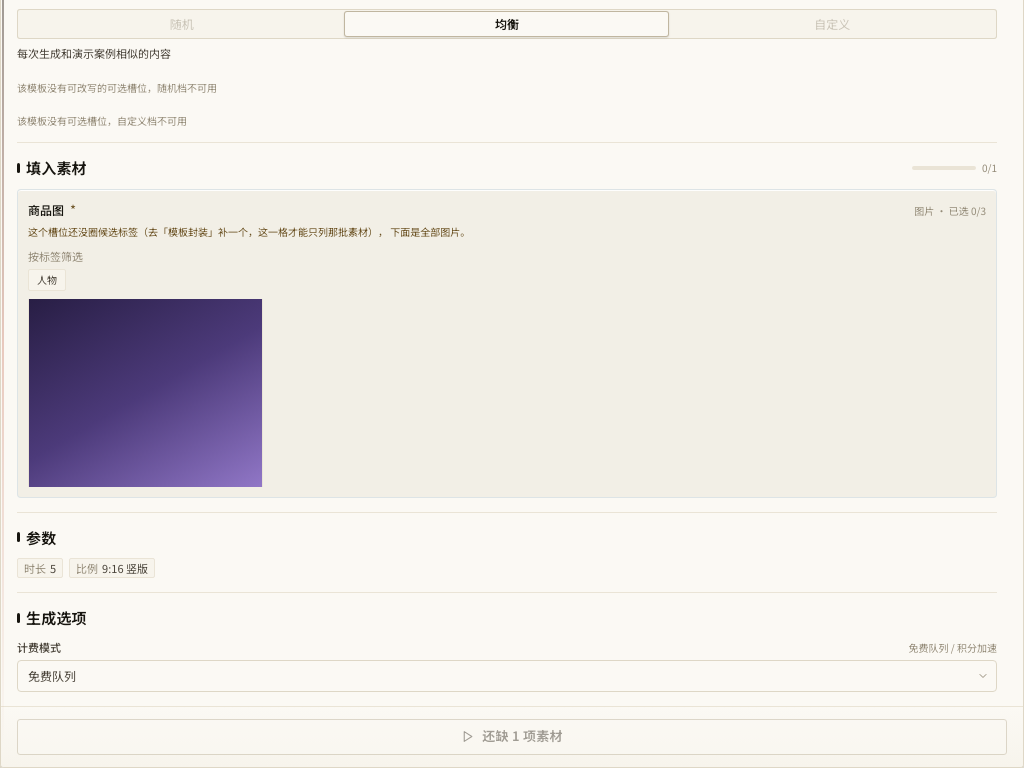
Scenario: 模板库：生成前的二次确认 › 选了积分加速就提醒会消耗积分
The width and height of the screenshot is (1024, 768).
(page scrolled)
Click the button titled "商品图.png" at (145, 393), box [28,276,262,510]
(page scrolled)
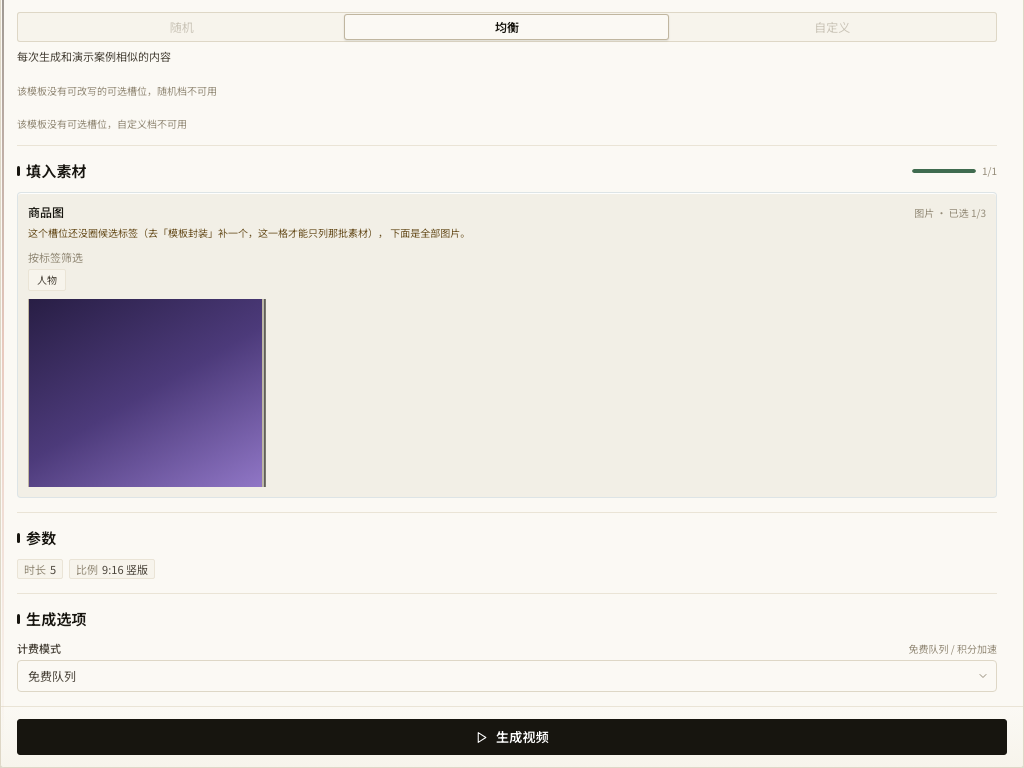
Select "积分加速" in the dropdown labelled "计费模式" at (507, 676), box [17,660,997,692]
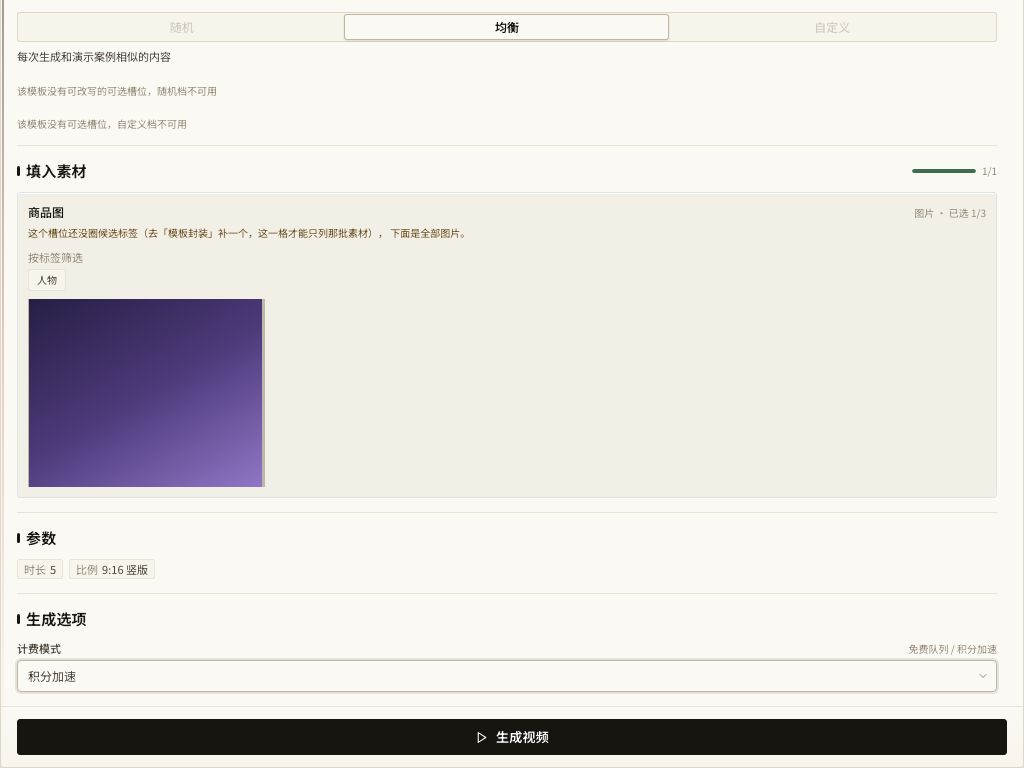
Click the button "生成视频" at (512, 737), box [17,719,1007,755]
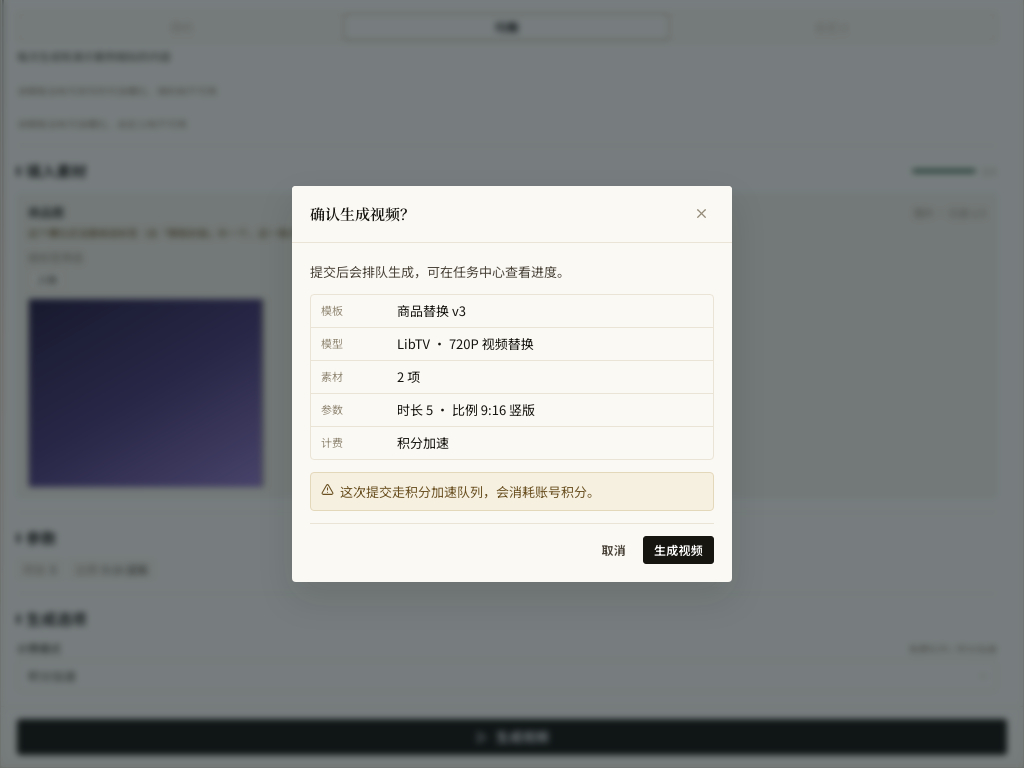
Expected: the dialog shows "会消耗账号积分", [340,482,600,501]
